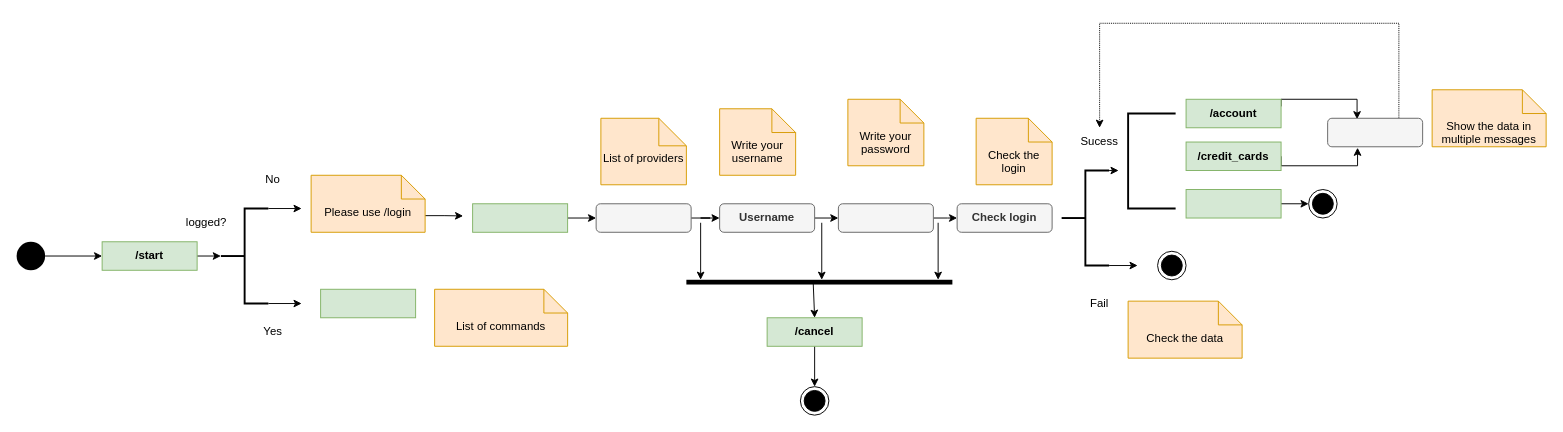
The diagram is 1563 pixels wide and 432 high, and some of its shapes have lost their labels. Each missing label, with the box of its shape:
/help: (320, 288, 416, 318)
/login: (472, 203, 568, 232)
/logout: (1185, 189, 1281, 218)
Display info: (1327, 117, 1423, 147)
Password: (837, 203, 933, 232)
Provider: (595, 203, 691, 232)
